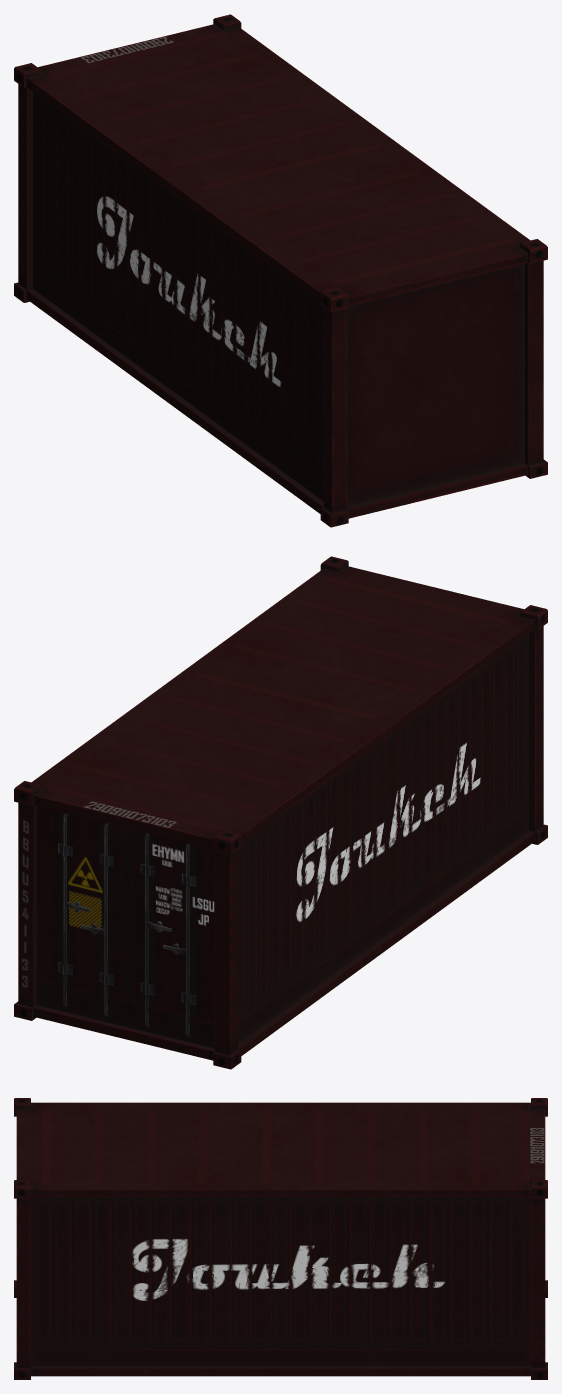
The model's file is Container2.glb.
The picture shows the model from 3 angles, top to bottom: view 1: azimuth 30°, elevation 25°; view 2: azimuth 150°, elevation 25°; view 3: azimuth 270°, elevation 25°; orthographic projection. The views are drawn at different scales.
Visible parts, largest first — view 1: Container; view 2: Container; view 3: Container.
Part boxes in pixels (x1=…): Container: x1=14, y1=14, x2=547, y2=527; Container: x1=14, y1=556, x2=547, y2=1069; Container: x1=14, y1=1098, x2=547, y2=1379.
Bounding box in the file's own units: 2.37 × 2.39 × 6.
Materials: 1 (1 with a texture image).
